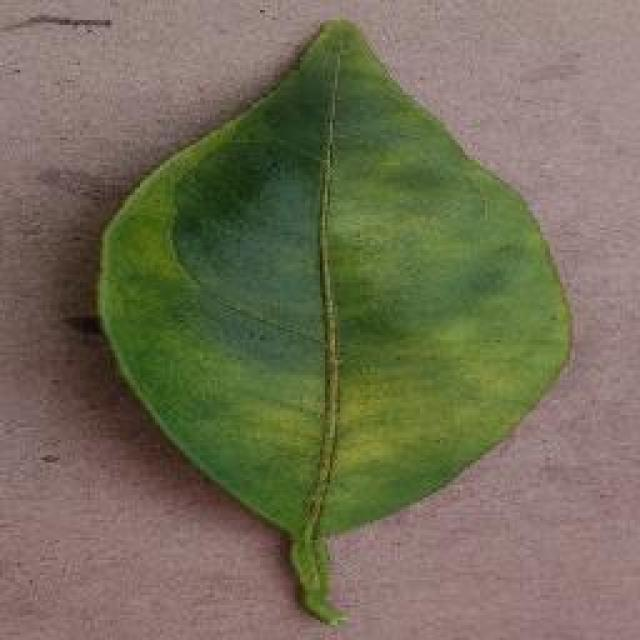Orange_Haunglongbing_Citrus_greening: (149, 122, 521, 502)
